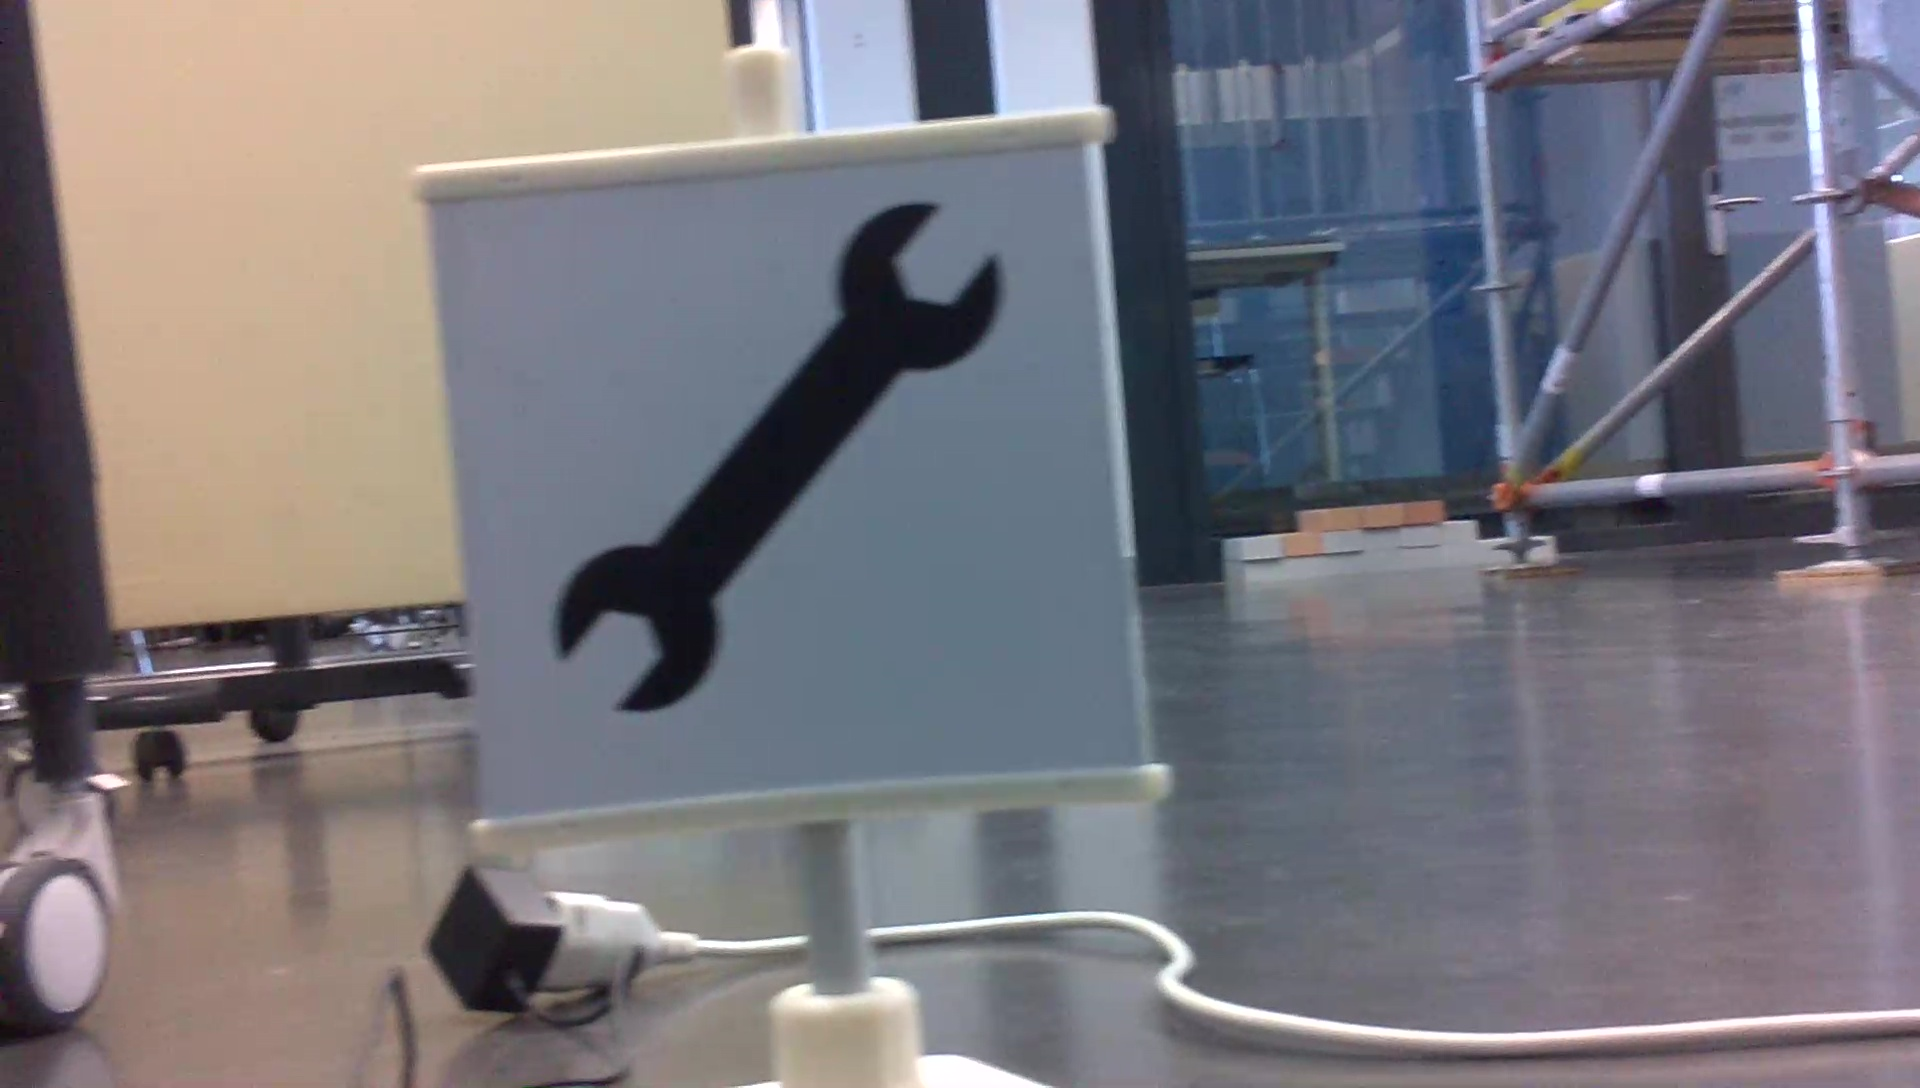wrench: (541, 193, 1011, 721)
